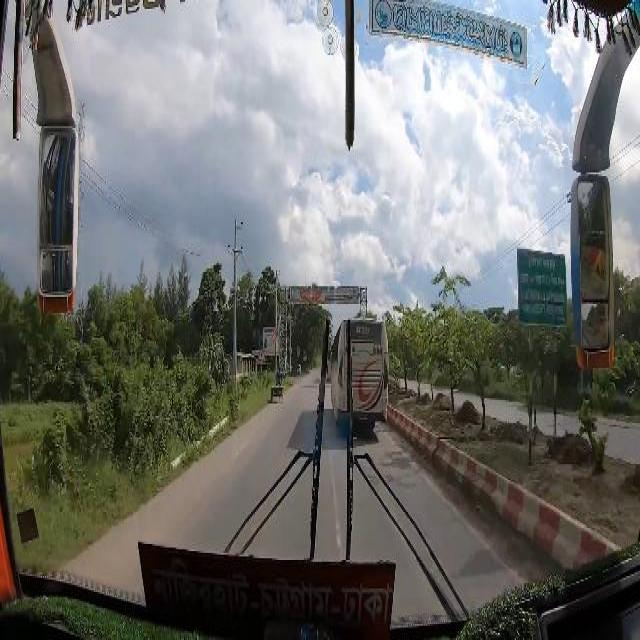vehicle: (331, 321, 389, 424)
